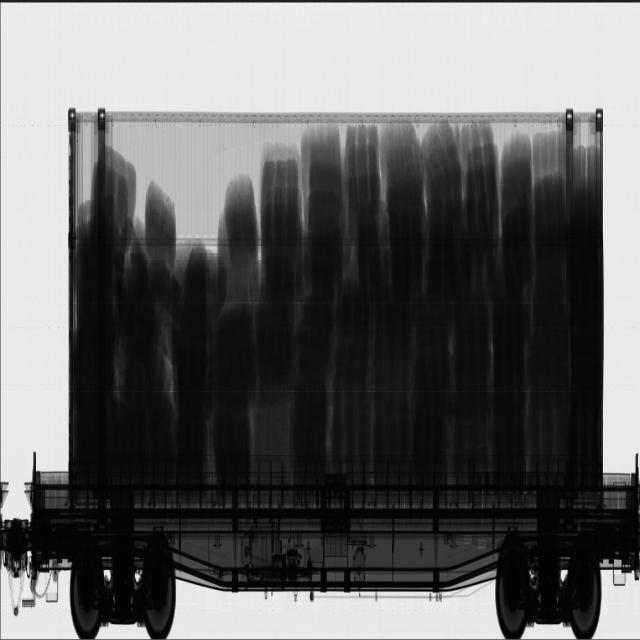clothes: (55, 119, 458, 470)
